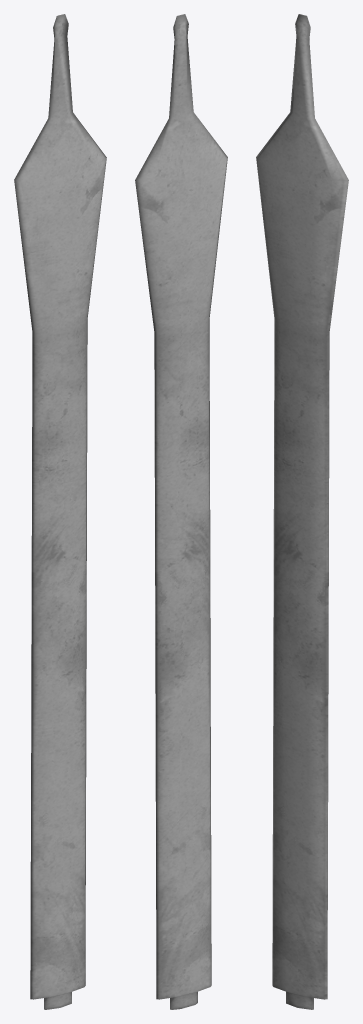
Rendered from Handles.glb.
3 renders of one model, left to right at view 1: azimuth 30°, elevation 25°; view 2: azimuth 210°, elevation 25°; view 3: azimuth 330°, elevation 25°, orthographic.
Visible parts, largest first — view 1: Hour_Hand; view 2: Hour_Hand; view 3: Hour_Hand.
Boxes of the visible parts, x1,y1,x2,y2 form: Hour_Hand: [14, 14, 106, 1009]; Hour_Hand: [135, 14, 227, 1009]; Hour_Hand: [256, 14, 348, 1009].
Size of the model in its own units: 0.0627 by 0.6394 by 0.0119.
1 material, 1 textured.
